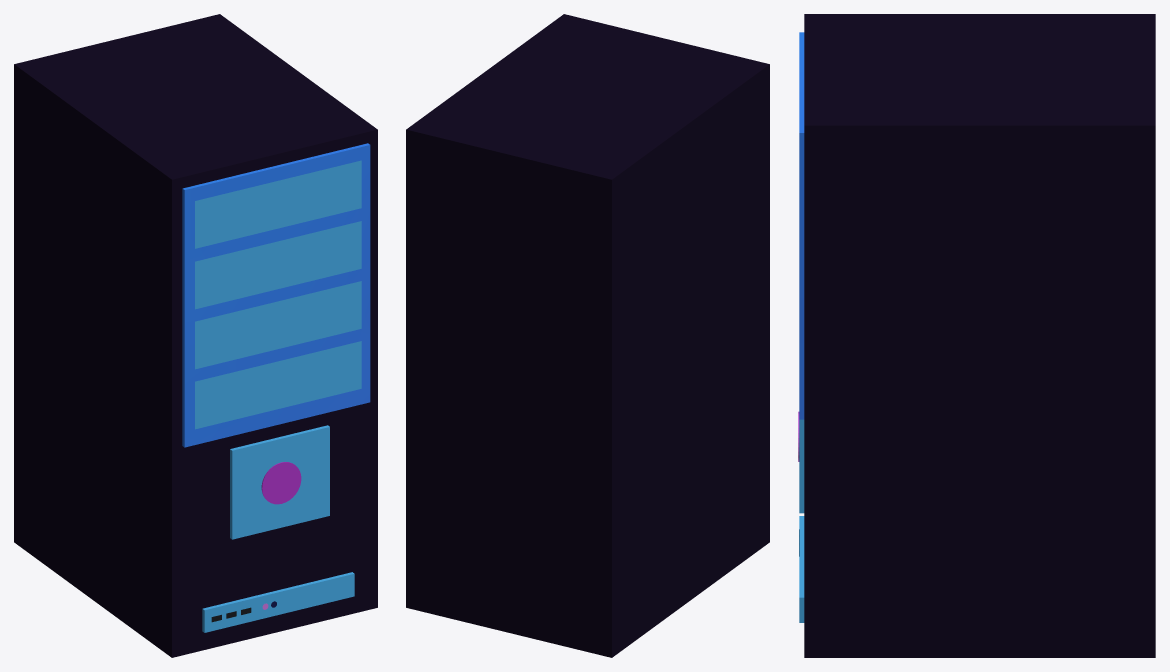
Rendered from CPU.gltf.
The picture shows the model from 3 angles, left to right: view 1: azimuth 30°, elevation 25°; view 2: azimuth 150°, elevation 25°; view 3: azimuth 270°, elevation 25°; orthographic projection. The views are drawn at different scales.
Visible parts, largest first — view 1: CPU.001; view 2: CPU.001; view 3: CPU.001.
Part boxes in pixels (box(x1,y1,x2,y2)): CPU.001: box(14, 14, 377, 657); CPU.001: box(406, 14, 769, 657); CPU.001: box(798, 14, 1155, 657).
Bounding box in the file's own units: 1.23 × 2.74 × 1.67.
Materials: 1 (1 with a texture image).
